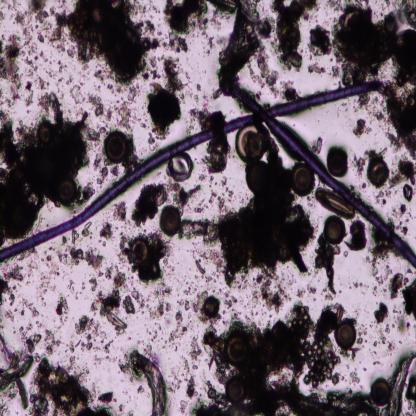Background material: (0, 90, 97, 235), (226, 302, 310, 416), (52, 0, 162, 83), (29, 355, 122, 415), (210, 0, 270, 91), (337, 3, 396, 86), (270, 0, 316, 73), (375, 71, 416, 151), (146, 58, 184, 144), (215, 204, 251, 291), (192, 105, 232, 176), (91, 262, 139, 318), (161, 1, 210, 54), (68, 314, 113, 360), (253, 267, 293, 315), (129, 180, 168, 229), (309, 386, 372, 416), (0, 27, 23, 101), (138, 233, 171, 284), (192, 381, 238, 415), (312, 240, 338, 297), (181, 216, 222, 248), (112, 86, 139, 131), (200, 332, 225, 380), (168, 362, 199, 400), (0, 262, 25, 309), (146, 282, 173, 320), (207, 176, 236, 211), (35, 258, 57, 304), (192, 294, 222, 327), (57, 248, 106, 268), (307, 25, 334, 61), (254, 53, 277, 95), (389, 154, 416, 188), (0, 385, 29, 416), (168, 182, 202, 208), (191, 256, 215, 292), (22, 26, 40, 72), (17, 322, 42, 354), (314, 305, 335, 343), (386, 202, 410, 235), (386, 268, 407, 304), (164, 316, 188, 347), (0, 0, 27, 27), (400, 277, 416, 318), (175, 276, 192, 314), (391, 308, 412, 338), (93, 155, 112, 186), (395, 0, 416, 28), (141, 319, 162, 346), (86, 94, 108, 119), (28, 0, 50, 25), (44, 327, 62, 355), (55, 293, 71, 324), (372, 300, 390, 326), (68, 82, 88, 105), (191, 82, 209, 106), (66, 280, 87, 300), (226, 296, 243, 320), (373, 267, 387, 295), (351, 117, 372, 135), (112, 201, 128, 224), (97, 220, 115, 240), (189, 334, 201, 364), (376, 332, 394, 352), (352, 156, 366, 180), (22, 298, 40, 316), (24, 81, 35, 110), (281, 83, 298, 101), (34, 71, 48, 92), (359, 94, 374, 112), (121, 353, 132, 375), (402, 182, 416, 199), (349, 281, 367, 294), (308, 62, 326, 74), (40, 48, 50, 69), (348, 368, 362, 383), (87, 273, 98, 292), (82, 224, 94, 240), (71, 229, 82, 245), (36, 29, 46, 46), (198, 173, 205, 183)
Cellulose filter fibre: (132, 349, 168, 415), (381, 352, 415, 414), (0, 354, 35, 392)
Diatom: (302, 340, 339, 385), (314, 188, 355, 220), (234, 126, 266, 163), (245, 161, 274, 195), (395, 27, 416, 71), (105, 130, 129, 165), (323, 213, 347, 247), (288, 166, 315, 196), (168, 154, 194, 184), (225, 334, 250, 365), (325, 145, 348, 177), (367, 157, 390, 188), (129, 237, 150, 270), (335, 320, 358, 350), (161, 206, 183, 236), (224, 374, 246, 403), (56, 179, 79, 206), (370, 378, 392, 406), (105, 312, 128, 331), (336, 304, 344, 324), (316, 137, 323, 154)
Hair textile: (0, 79, 379, 262), (233, 87, 416, 266)
